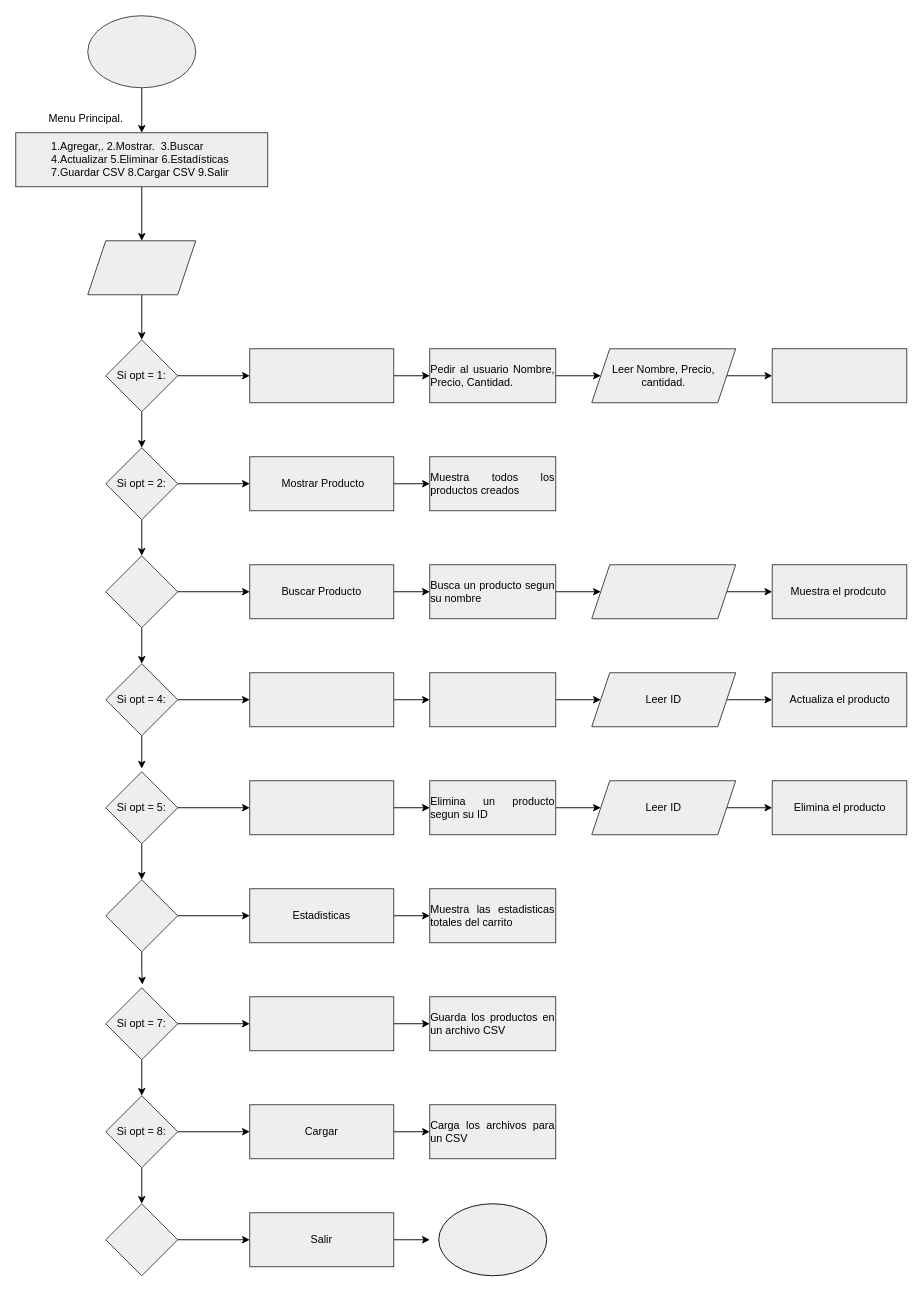
Image size: 923x1292. Some labels were removed from this diagram. Each missing label, with the centre of its shape:
"Actualiza un producto segun su ID" belongs at [492,699].
"Actualizar Producto" belongs at [321,699].
"Agregar Producto" belongs at [321,375].
"Eliminar Producto" belongs at [321,807].
"Fin" belongs at [492,1239].
"Guardar CSV" belongs at [321,1023].
"INICIO" belongs at [141,51].
"Leer Nombre" belongs at [663,591].
"Mostrar producto agregado con exito" belongs at [839,375].
"Si opt = 3:" belongs at [141,591].
"Si opt = 6:" belongs at [141,915].
"Si opt = 9:" belongs at [141,1239].
"Verificacion de opcion ingresada." belongs at [141,267].
